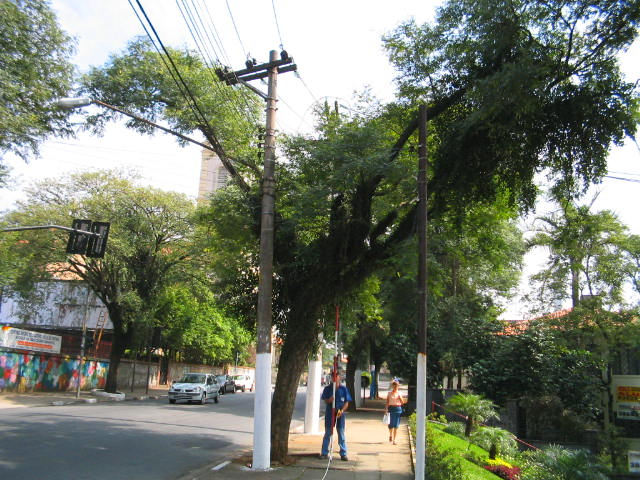crown: (83, 3, 635, 232), (1, 168, 215, 309)
stem: (265, 309, 319, 462), (99, 339, 129, 391)
stick: (326, 304, 341, 458)
tree: (80, 1, 638, 461), (1, 168, 215, 392)
